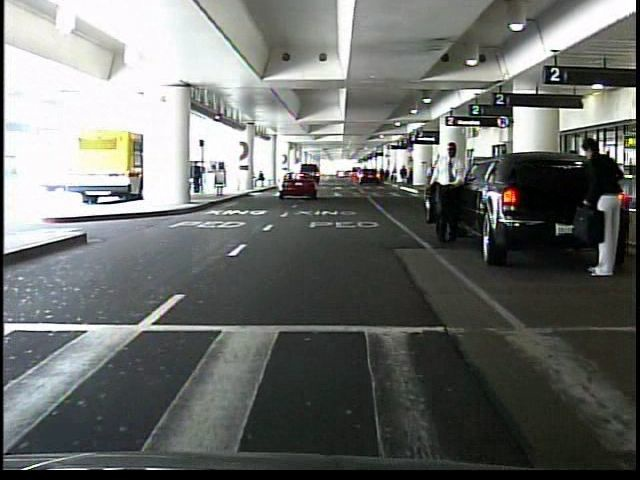person: (570, 136, 620, 278), (427, 139, 459, 242), (191, 160, 204, 196), (400, 165, 410, 188)
